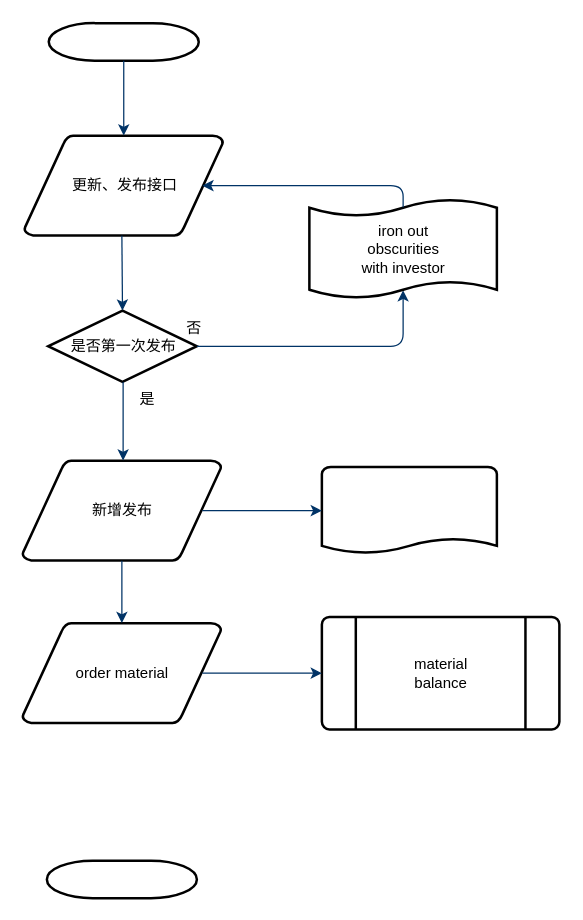
Image size: 583x920. Some labels were removed from this diagram. Each missing label, with the centre of its shape:
end: pixel 121 879
final project: pixel 409 510
开始: pixel 123 41
